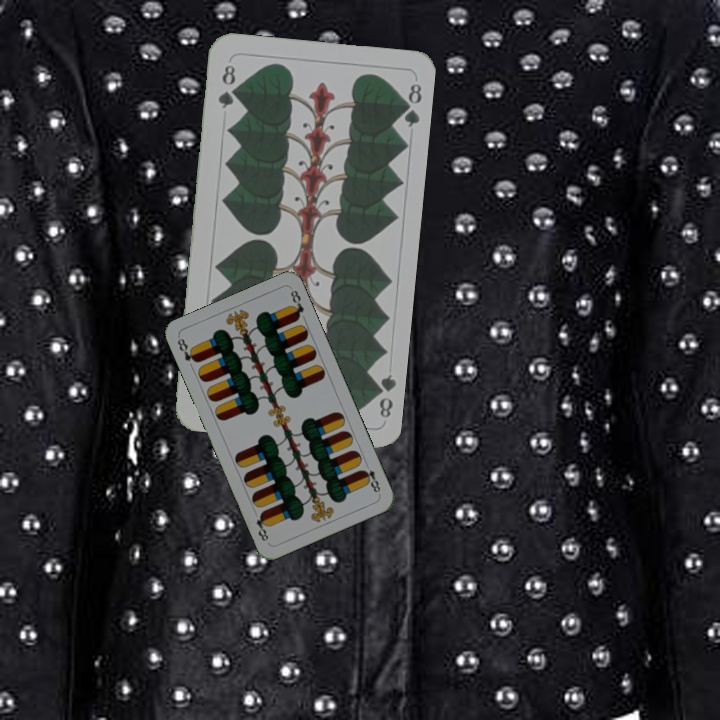E8: (358, 458, 383, 497), (173, 334, 200, 365)
G8: (369, 370, 398, 420), (214, 60, 239, 111)
